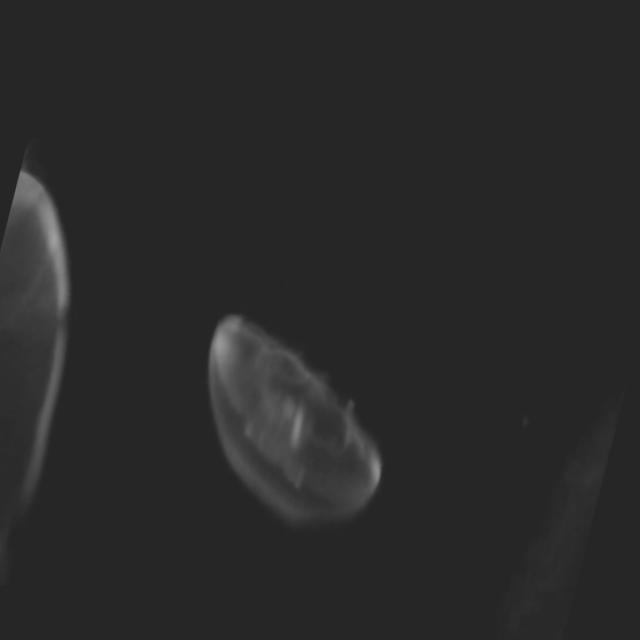Moon-jellyfish: (206, 311, 387, 535), (0, 169, 72, 587)
